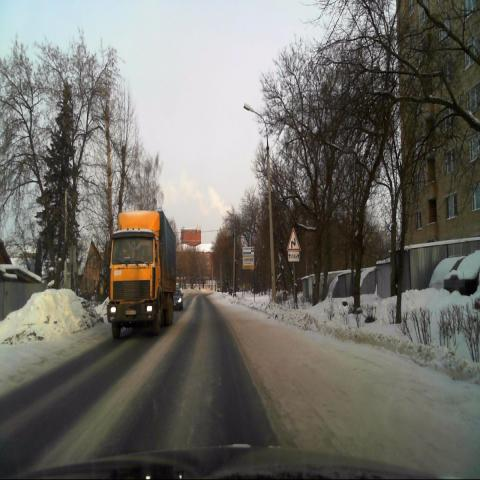1_12: (287, 228, 300, 251)
